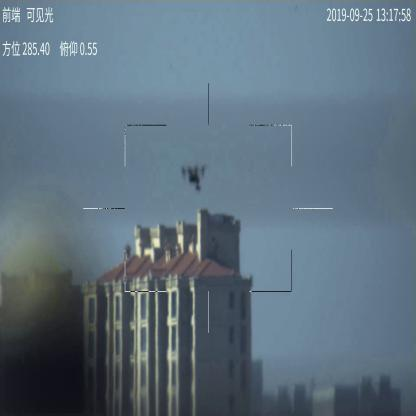uav: (181, 161, 207, 191)
